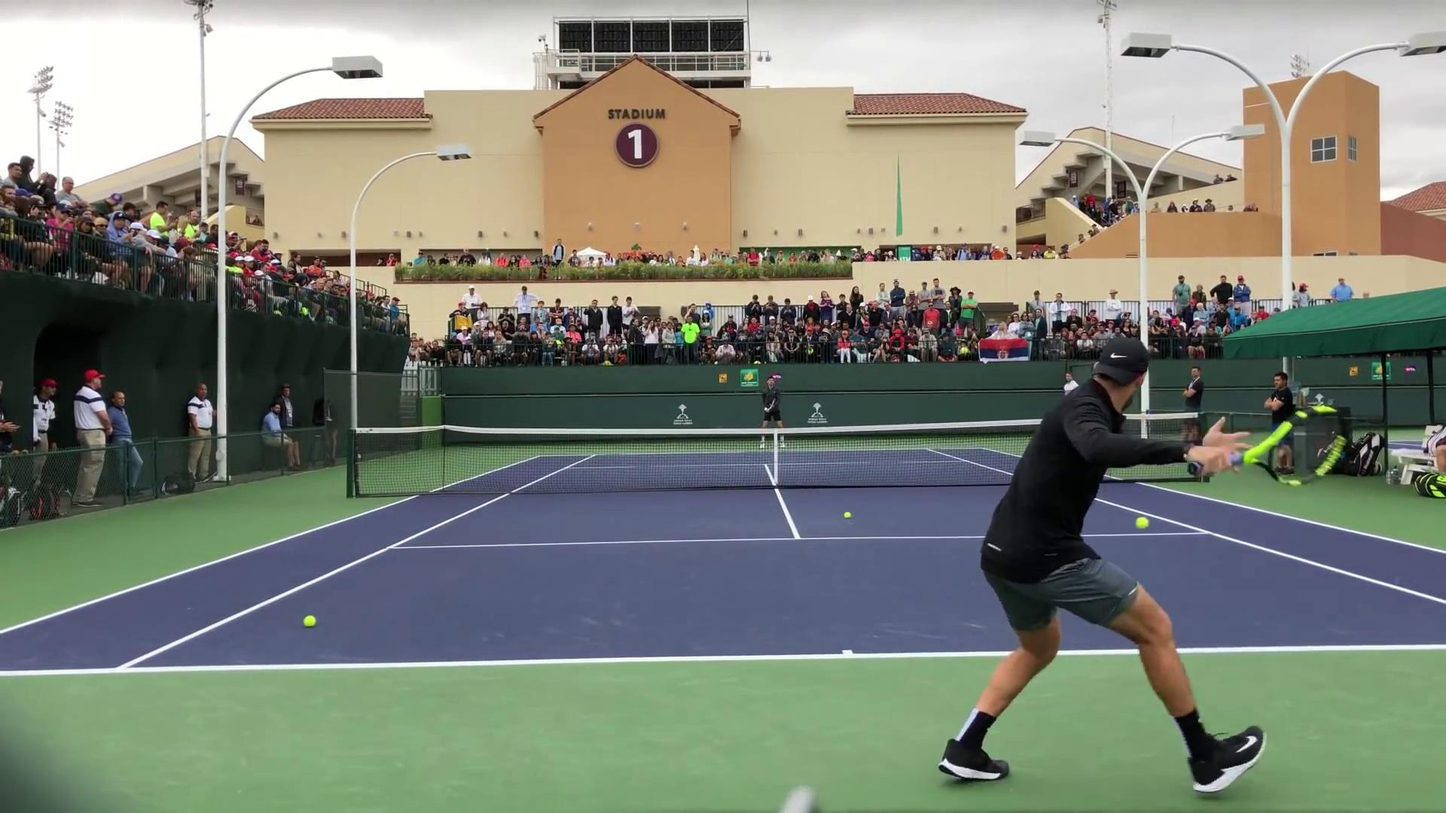ball: (302, 615, 317, 627), (1136, 516, 1149, 528), (843, 511, 851, 518)
